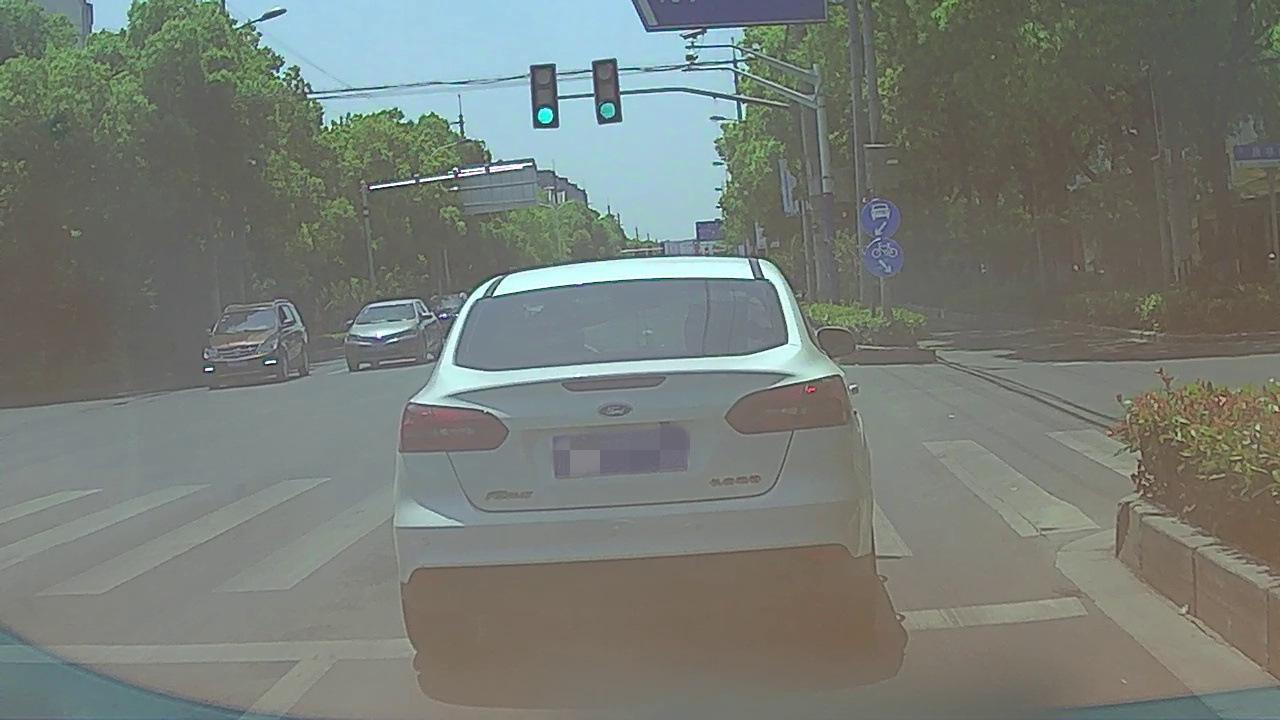traffic_light: (532, 62, 557, 129), (594, 61, 620, 123)
